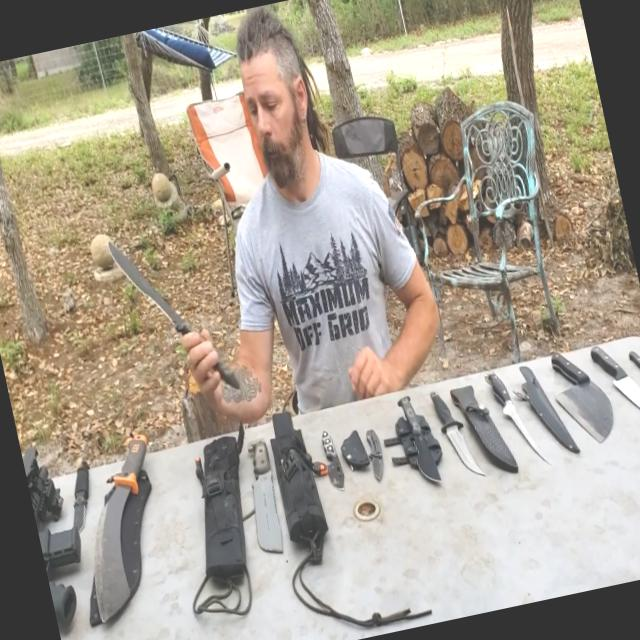knife: (60, 412, 194, 624), (104, 238, 246, 412), (532, 338, 622, 450), (389, 378, 460, 500), (476, 355, 550, 472), (580, 321, 639, 447), (427, 376, 491, 486), (235, 434, 293, 552), (303, 415, 368, 512), (55, 435, 112, 538), (358, 416, 416, 494), (625, 327, 639, 403)
